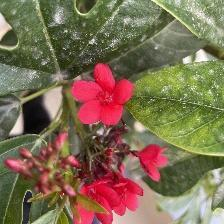jatropha: (71, 61, 135, 133)
